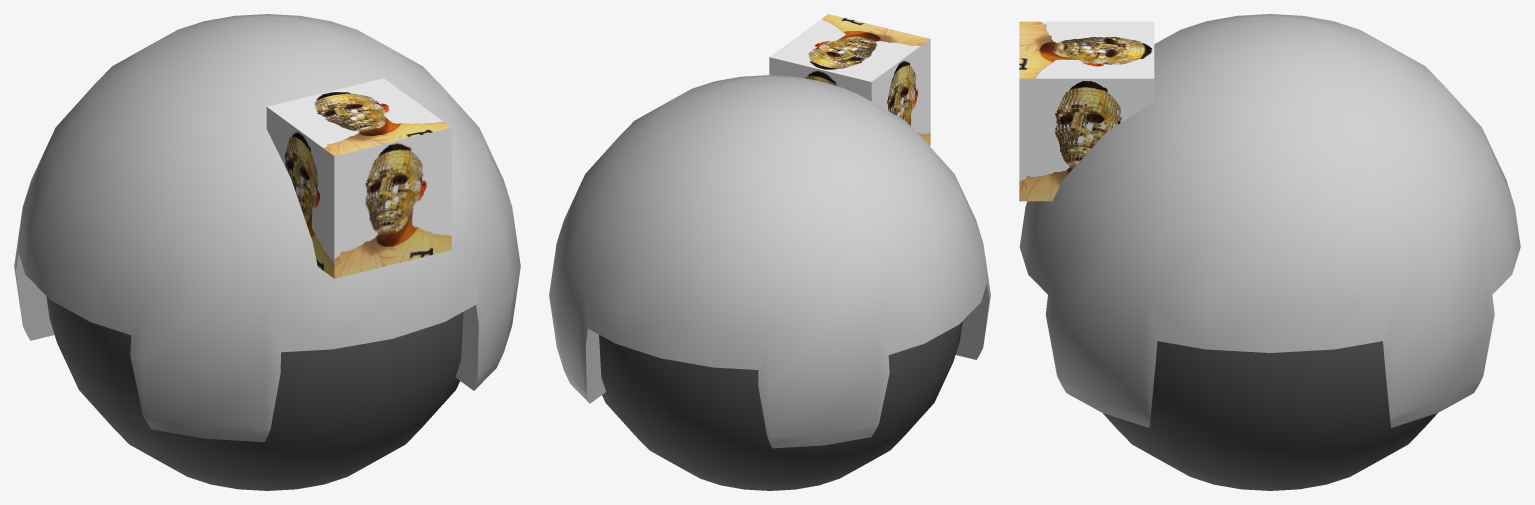
The model's file is M_Ball.fbx.
The picture shows the model from 3 angles, left to right: view 1: azimuth 30°, elevation 25°; view 2: azimuth 150°, elevation 25°; view 3: azimuth 270°, elevation 25°; orthographic projection. The views are drawn at different scales.
Visible parts, largest first — view 1: Sphere_1, Sphere, Cube, Cube_2_2, Cube_1; view 2: Sphere_1, Sphere, Cube, Cube_2_2, Cube_1; view 3: Sphere_1, Sphere, Cube.
Boxes of the visible parts, x1,y1,x2,y2 form: Sphere_1: [14, 14, 520, 441]; Sphere: [46, 296, 463, 490]; Cube: [266, 78, 451, 278]; Cube_2_2: [16, 253, 54, 340]; Cube_1: [455, 305, 478, 390]; Sphere_1: [549, 75, 990, 448]; Sphere: [599, 321, 962, 490]; Cube: [769, 14, 930, 145]; Cube_2_2: [955, 284, 989, 359]; Cube_1: [585, 328, 605, 403]; Sphere_1: [1019, 14, 1520, 427]; Sphere: [1103, 341, 1437, 490]; Cube: [1019, 21, 1154, 201].
Bounding box in the file's own units: 222 × 212 × 222.
Materials: 3 (1 with a texture image).
